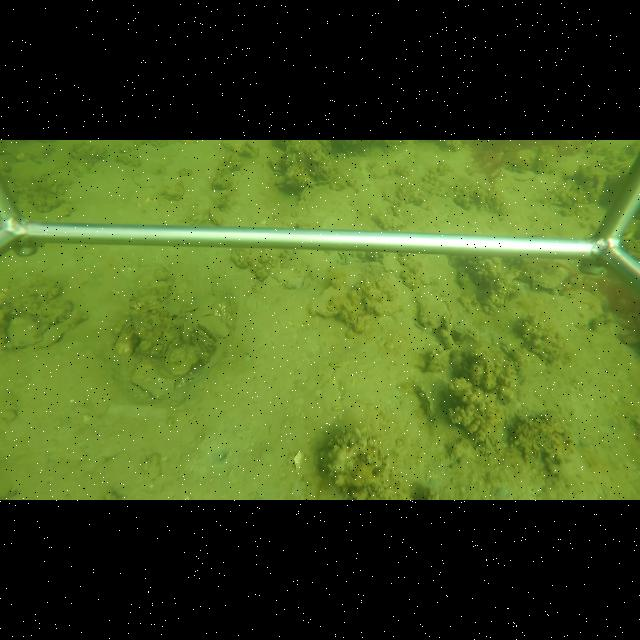Oyster-Closed: (132, 358, 179, 401), (161, 340, 203, 380), (416, 381, 435, 426), (420, 347, 452, 370)
Oyster-Open: (412, 288, 453, 332), (190, 322, 221, 353)
